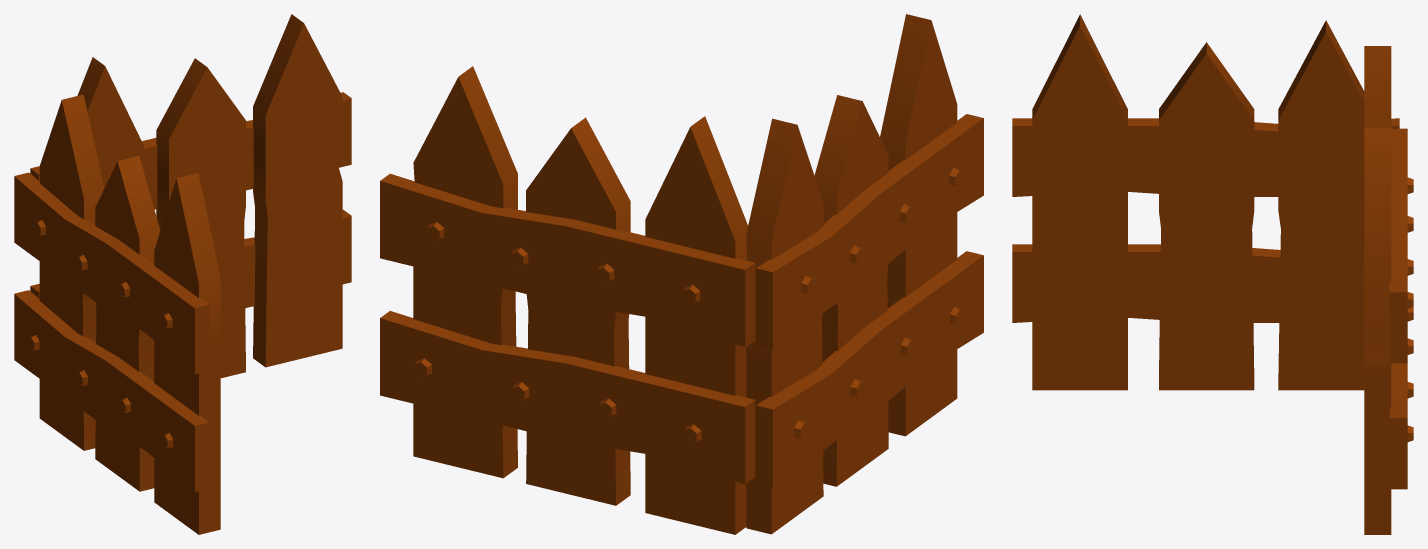
The model's file is Valla_04.fbx.
3 views of the same model, side by side, from view 1: azimuth 30°, elevation 25°; view 2: azimuth 150°, elevation 25°; view 3: azimuth 270°, elevation 25° (orthographic). The views are drawn at different scales.
Parts seen in each view (by area): view 1: Valla_04; view 2: Valla_04; view 3: Valla_04.
Boxes of the visible parts, bbox=[...] form: Valla_04: bbox=[14, 14, 351, 534]; Valla_04: bbox=[380, 14, 983, 534]; Valla_04: bbox=[1012, 14, 1413, 534].
Bounding box in the file's own units: 238 × 229 × 228.
